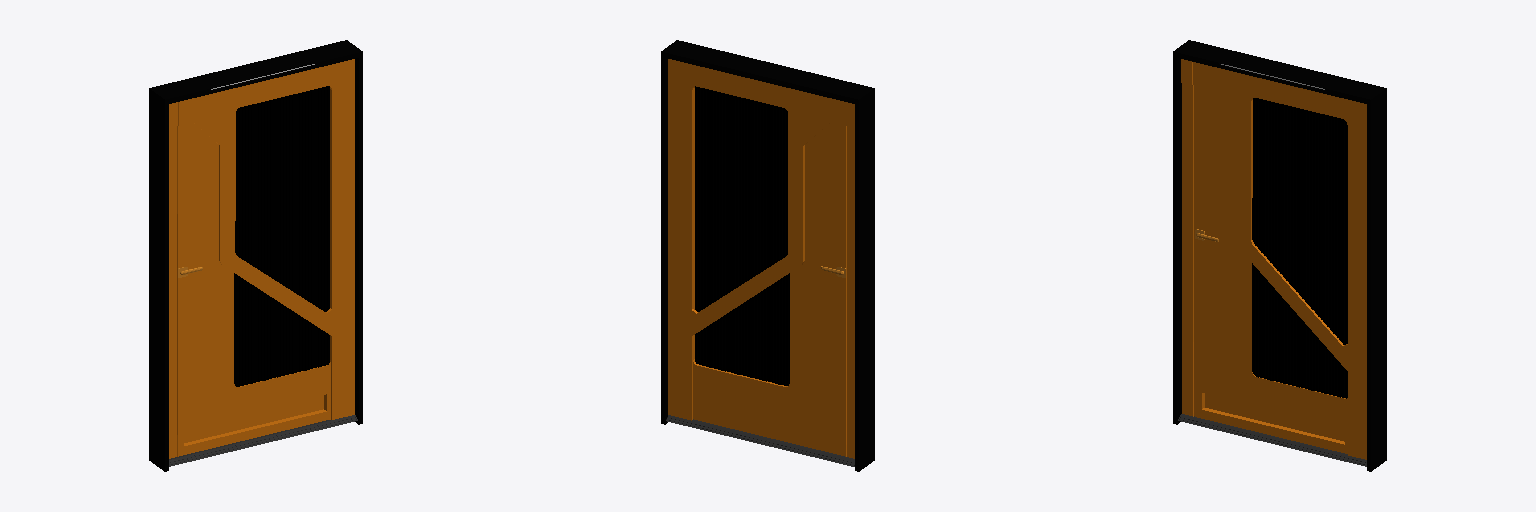
The picture shows the model from 3 angles: view 1: azimuth 30°, elevation 25°; view 2: azimuth 150°, elevation 25°; view 3: azimuth 330°, elevation 25°; orthographic projection.
Visible parts, largest first — view 1: Cube.002_door_material2_0, puerta_door_materail_0, puerta_chapa_rara_door_materail_0, marco_marco_door_0, Cube.003_door_material3_0; view 2: puerta_door_materail_0, Cube.002_door_material2_0, puerta_chapa_rara_door_materail_0, marco_marco_door_0, Cube.003_door_material3_0; view 3: puerta_door_materail_0, Cube.002_door_material2_0, puerta_chapa_rara_door_materail_0, marco_marco_door_0, Cube.003_door_material3_0.
Boxes of the visible parts, box(x1,y1,x2,y2) form: Cube.002_door_material2_0: box(234, 86, 329, 386); puerta_door_materail_0: box(169, 89, 330, 458); puerta_chapa_rara_door_materail_0: box(169, 59, 354, 419); marco_marco_door_0: box(149, 40, 362, 471); Cube.003_door_material3_0: box(169, 415, 357, 466); puerta_door_materail_0: box(693, 87, 854, 458); Cube.002_door_material2_0: box(695, 86, 789, 385); puerta_chapa_rara_door_materail_0: box(668, 59, 854, 420); marco_marco_door_0: box(661, 40, 874, 471); Cube.003_door_material3_0: box(666, 415, 854, 466); puerta_door_materail_0: box(1182, 83, 1347, 453); Cube.002_door_material2_0: box(1252, 98, 1347, 398); puerta_chapa_rara_door_materail_0: box(1181, 59, 1366, 459); marco_marco_door_0: box(1173, 40, 1386, 471); Cube.003_door_material3_0: box(1178, 414, 1366, 466).
Size of the model in its own units: 1.75 by 3.14 by 0.2428.
6 materials, 5 textured.